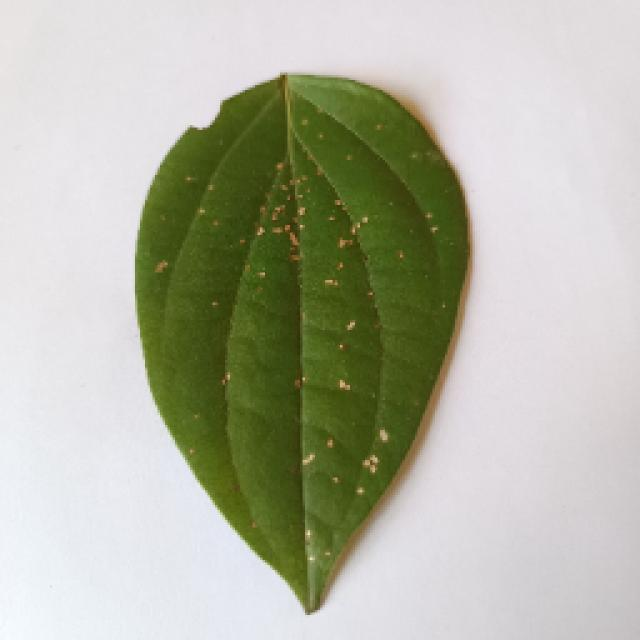pollu-disease: (105, 72, 517, 612)
